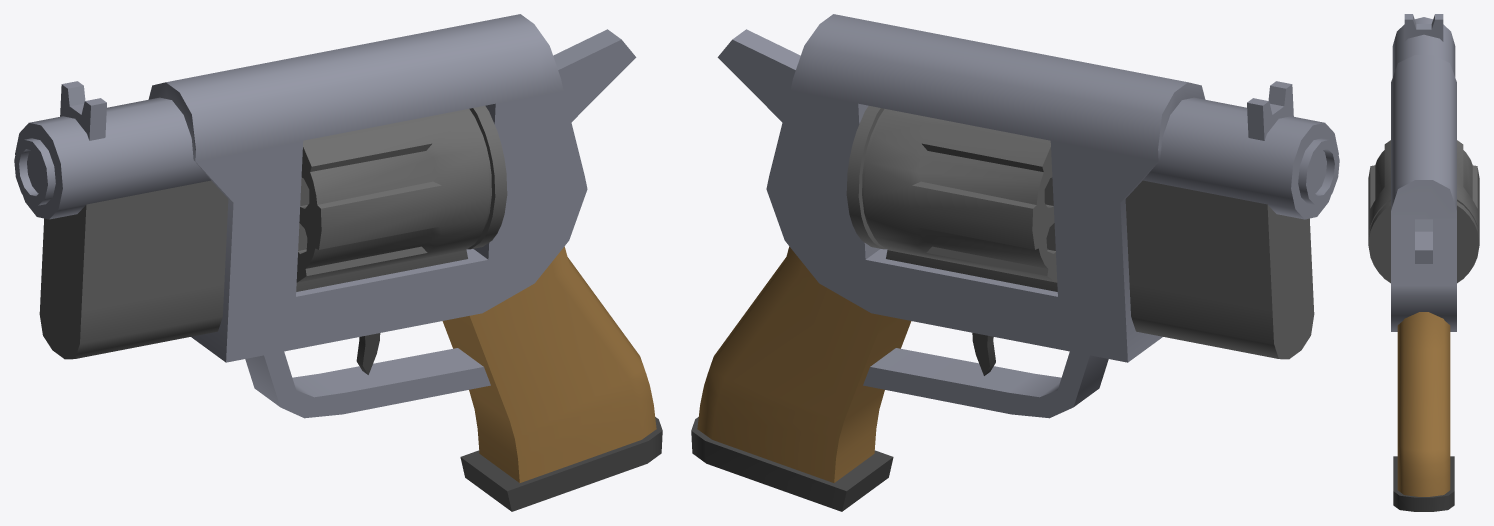
File: Revolver_Small.glb
3 renders of one model, left to right at view 1: azimuth 30°, elevation 25°; view 2: azimuth 150°, elevation 25°; view 3: azimuth 270°, elevation 25°, orthographic. The views are drawn at different scales.
Visible parts, largest first — view 1: Revolver_Small; view 2: Revolver_Small; view 3: Revolver_Small.
Boxes of the visible parts, x1,y1,x2,y2 form: Revolver_Small: [14, 14, 662, 511]; Revolver_Small: [691, 14, 1339, 511]; Revolver_Small: [1368, 14, 1479, 511].
Bounding box in the file's own units: 0.6632 × 0.5097 × 0.1576.
